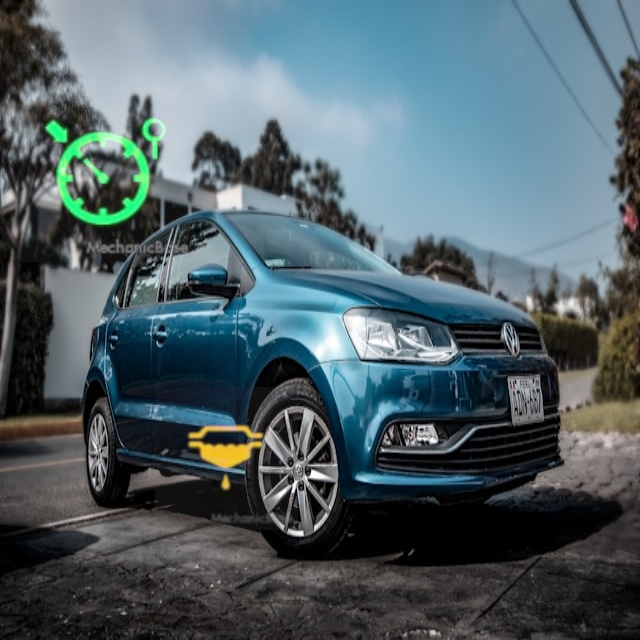symbol: (17, 84, 195, 262), (155, 387, 298, 530)
